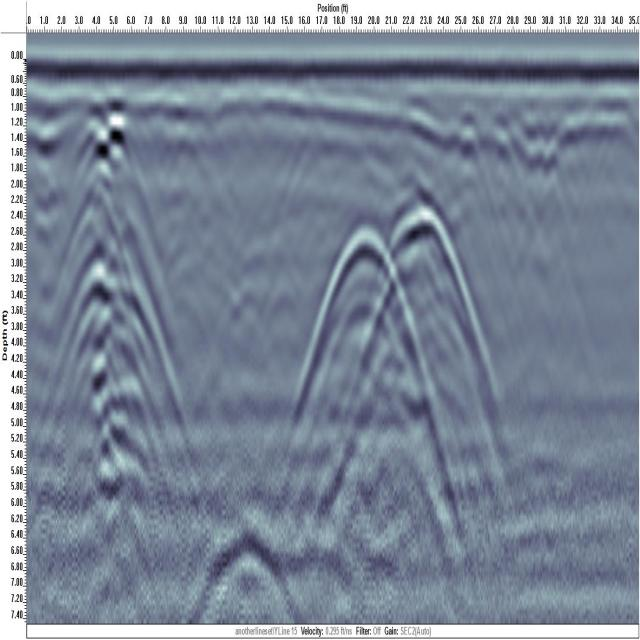hyperbola: (299, 213, 422, 419), (371, 188, 481, 402)
